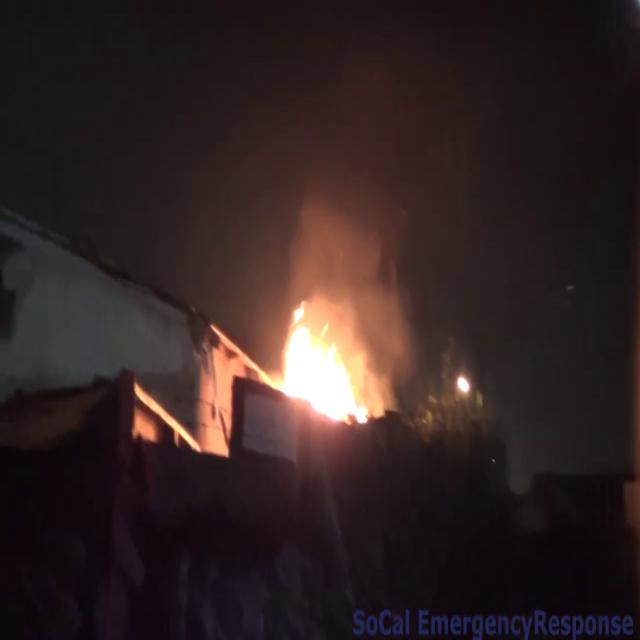Fire: (266, 297, 378, 429)
Smoke: (226, 0, 482, 306)
